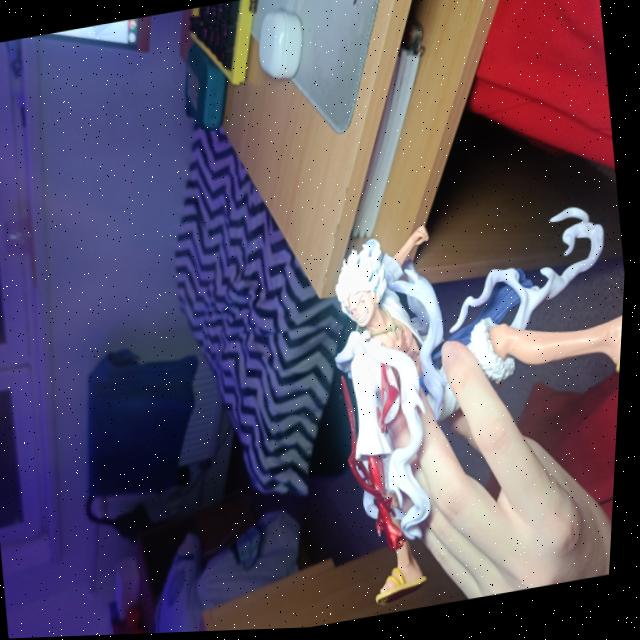luffy: (311, 192, 631, 623)
